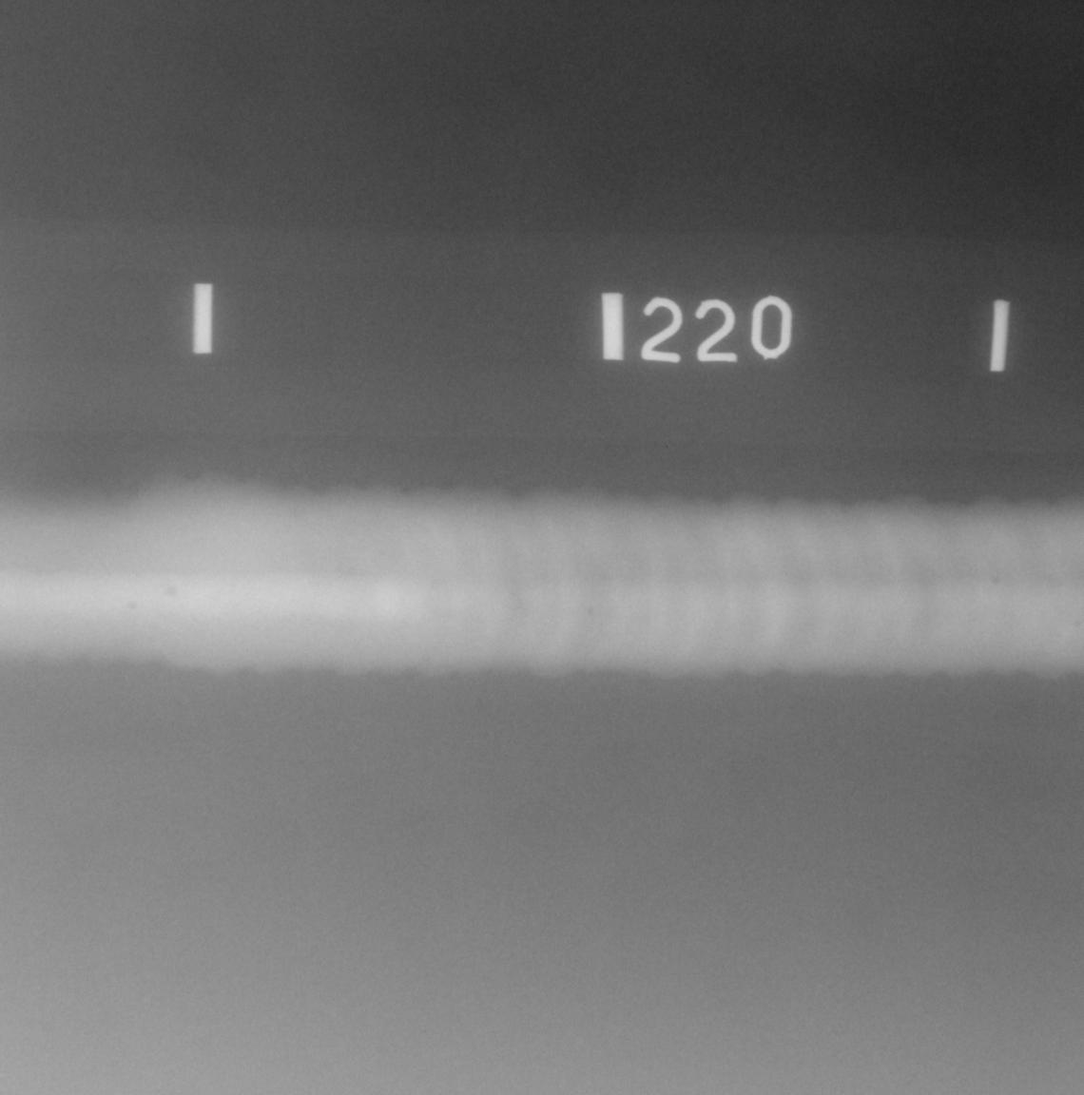Pore/Porosity: (992, 577, 1000, 584), (128, 602, 135, 609), (167, 589, 174, 595), (587, 609, 594, 615), (1073, 622, 1081, 627)
